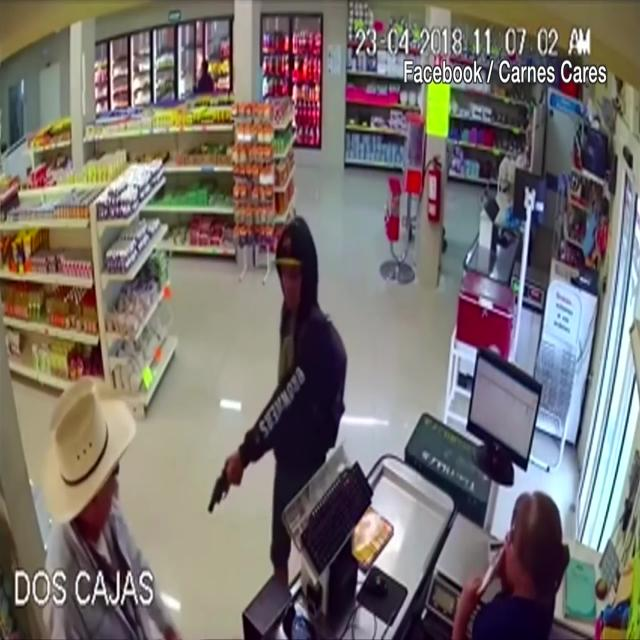Weapon: (189, 451, 257, 512)
